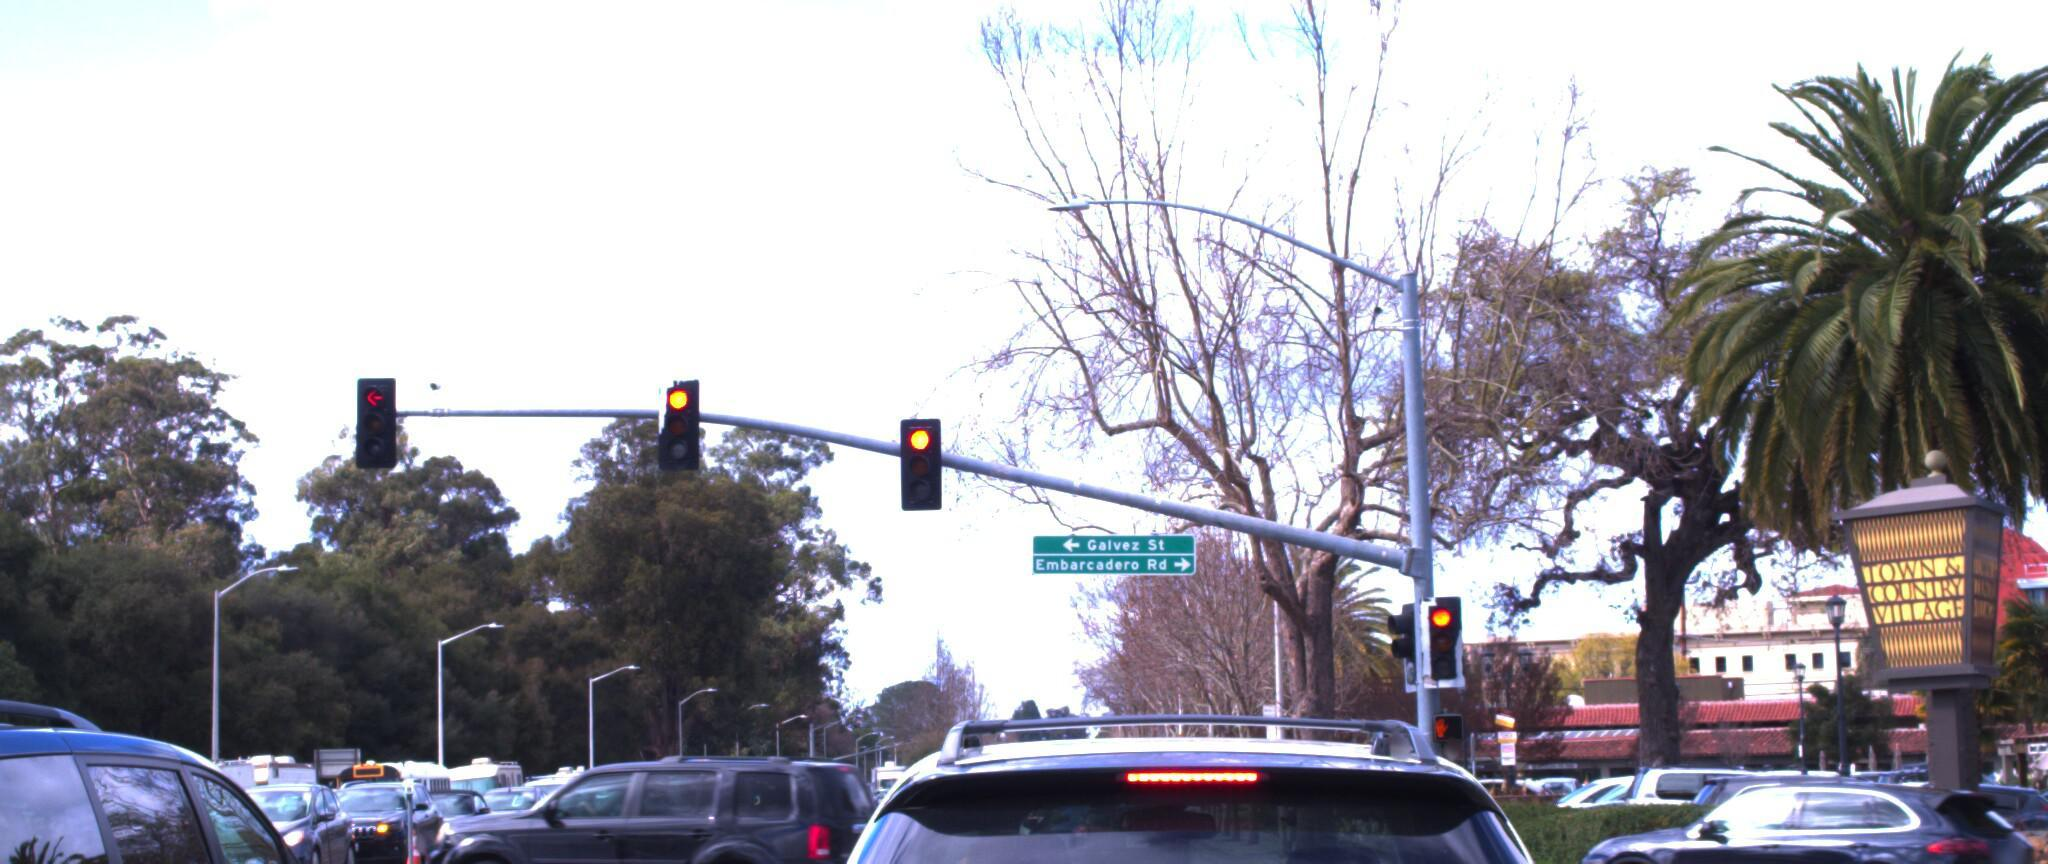car: (683, 683, 1732, 864), (0, 683, 445, 864), (377, 728, 914, 864), (1563, 778, 2048, 864), (1676, 753, 1983, 857), (191, 764, 371, 864), (296, 764, 456, 859), (511, 748, 620, 827), (1033, 745, 1122, 839)
other_vehicle: (0, 701, 98, 855)
